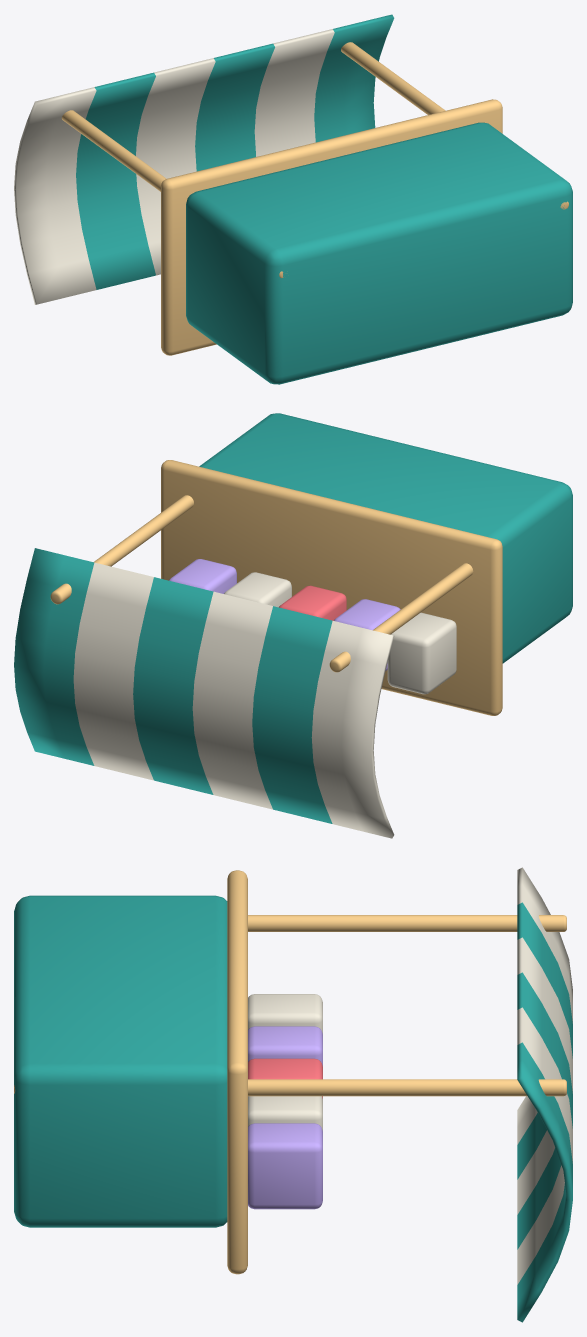
Rendered from BoulevardLandmark0.fbx.
The picture shows the model from 3 angles, top to bottom: view 1: azimuth 30°, elevation 25°; view 2: azimuth 150°, elevation 25°; view 3: azimuth 270°, elevation 25°; orthographic projection. The views are drawn at different scales.
Visible parts, largest first — view 1: BoulevardLandmark0; view 2: BoulevardLandmark0; view 3: BoulevardLandmark0.
Boxes of the visible parts, left/top/right/bottom form: BoulevardLandmark0: left=14, top=14, right=572, bottom=384; BoulevardLandmark0: left=14, top=413, right=572, bottom=838; BoulevardLandmark0: left=14, top=867, right=572, bottom=1322.
Size of the model in its own units: 1.69 by 0.94 by 1.9.
